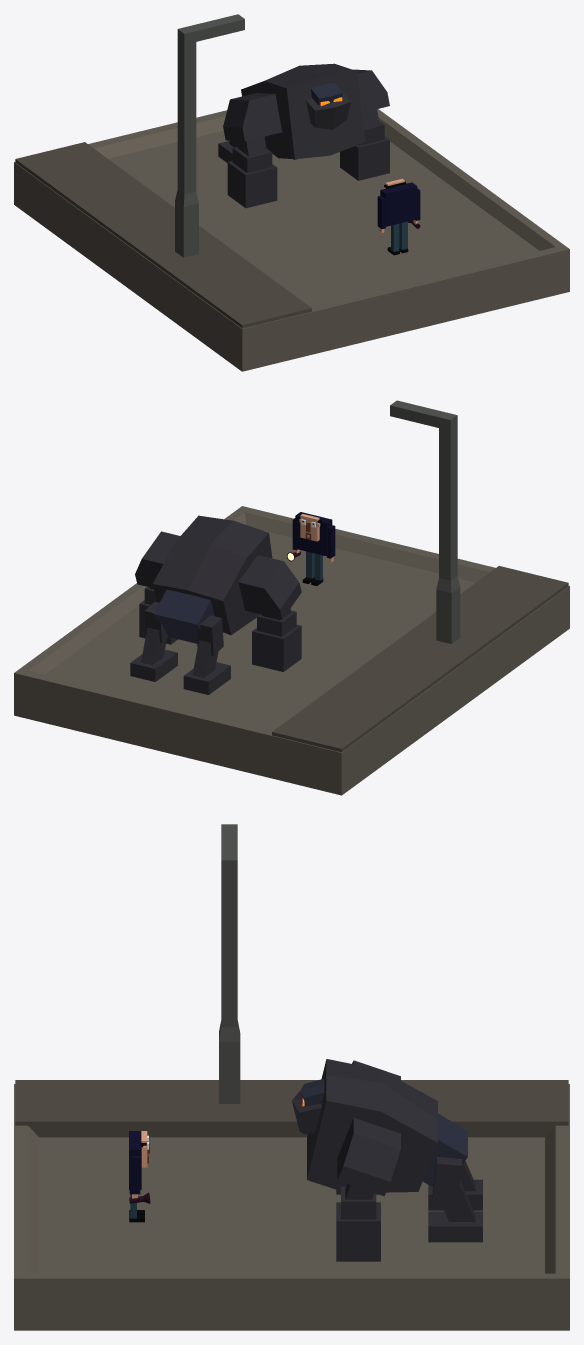
Rendered from monster-scene3.glb.
3 views of the same model, one above another, from view 1: azimuth 30°, elevation 25°; view 2: azimuth 150°, elevation 25°; view 3: azimuth 270°, elevation 25° (orthographic). The views are drawn at different scales.
Parts seen in each view (by area): view 1: Cube.049, Cube.050, Cube.003, Cube.051, Cube.004, Cube.000, Cube.047, Cube.001, Cube, Cube.002, Cube.005; view 2: Cube.049, Cube.050, Cube.003, Cube.051, Cube.000, Cube.004, Cube.007, Cube.010, Cube.009, Cube.008, Cube.001, Cube.047; view 3: Cube.049, Cube.050, Cube.003, Cube.051, Cube.000, Cube.004, Cube.010, Cube.007, Cube.008, Cube.009, Cube.001, Cube.
Boxes of the visible parts, x1,y1,x2,y2 form: Cube.049: (14, 109, 569, 371); Cube.050: (15, 142, 311, 328); Cube.003: (241, 63, 364, 159); Cube.051: (175, 14, 244, 257); Cube.004: (227, 136, 389, 208); Cube.000: (223, 69, 389, 141); Cube.047: (380, 182, 417, 226); Cube.001: (232, 121, 384, 172); Cube: (306, 91, 350, 129); Cube.002: (236, 109, 379, 156); Cube.005: (311, 82, 342, 105); Cube.049: (14, 506, 569, 795); Cube.050: (272, 566, 568, 752); Cube.003: (153, 515, 272, 635); Cube.051: (390, 400, 460, 643); Cube.000: (135, 531, 301, 619); Cube.004: (139, 600, 301, 671); Cube.007: (154, 589, 214, 643); Cube.010: (130, 649, 230, 694); Cube.009: (141, 627, 218, 677); Cube.008: (144, 601, 223, 655); Cube.001: (144, 587, 296, 636); Cube.047: (295, 512, 332, 556); Cube.049: (14, 1084, 569, 1330); Cube.050: (15, 1080, 568, 1137); Cube.003: (307, 1059, 437, 1192); Cube.051: (219, 824, 240, 1103); Cube.000: (337, 1060, 400, 1196); Cube.004: (336, 1190, 380, 1261); Cube.010: (428, 1179, 482, 1242); Cube.007: (422, 1113, 467, 1187); Cube.008: (432, 1125, 461, 1201); Cube.009: (440, 1161, 475, 1221); Cube.001: (341, 1186, 376, 1219); Cube: (292, 1091, 321, 1134).
Size of the model in its own units: 20.73 by 16.25 by 25.
